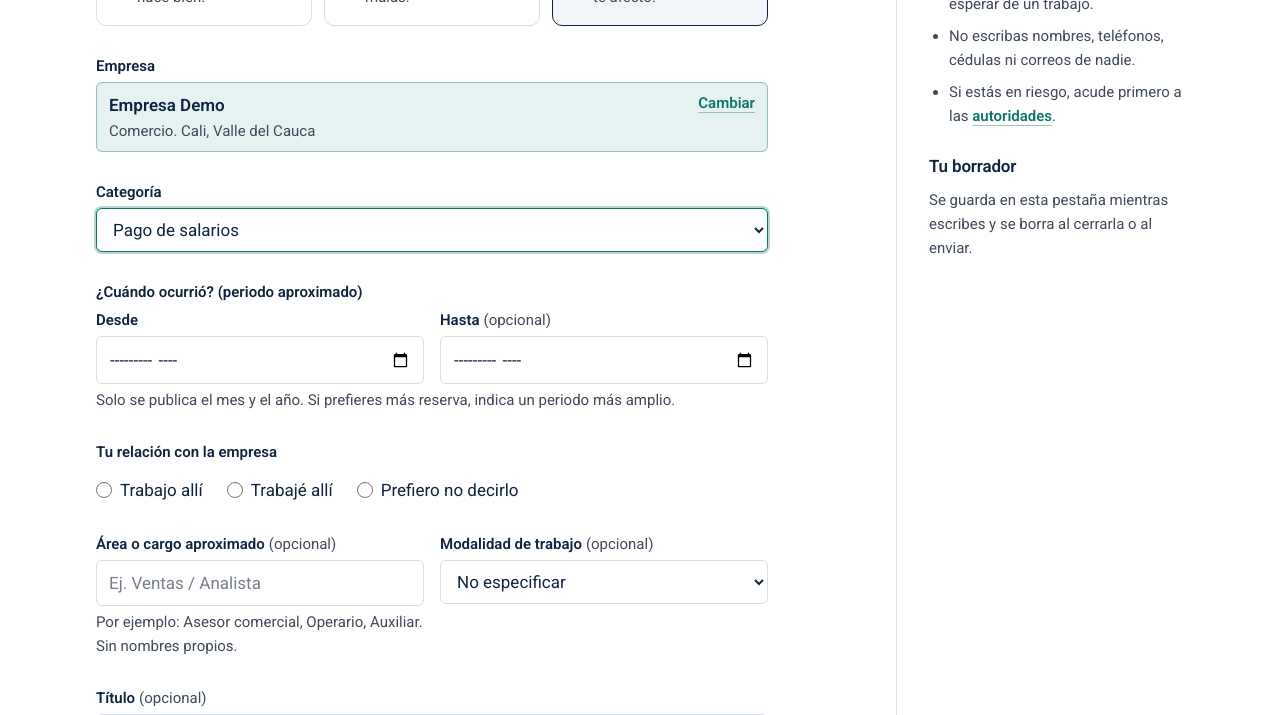
compartir una experiencia › avisa de datos personales, muestra la vista previa y envía a revisión
The width and height of the screenshot is (1280, 715).
Earlier steps of the test are not shown.
(page scrolled)
In the field labelled "Desde": (260, 360) [96, 336, 424, 384], type "2024-03"
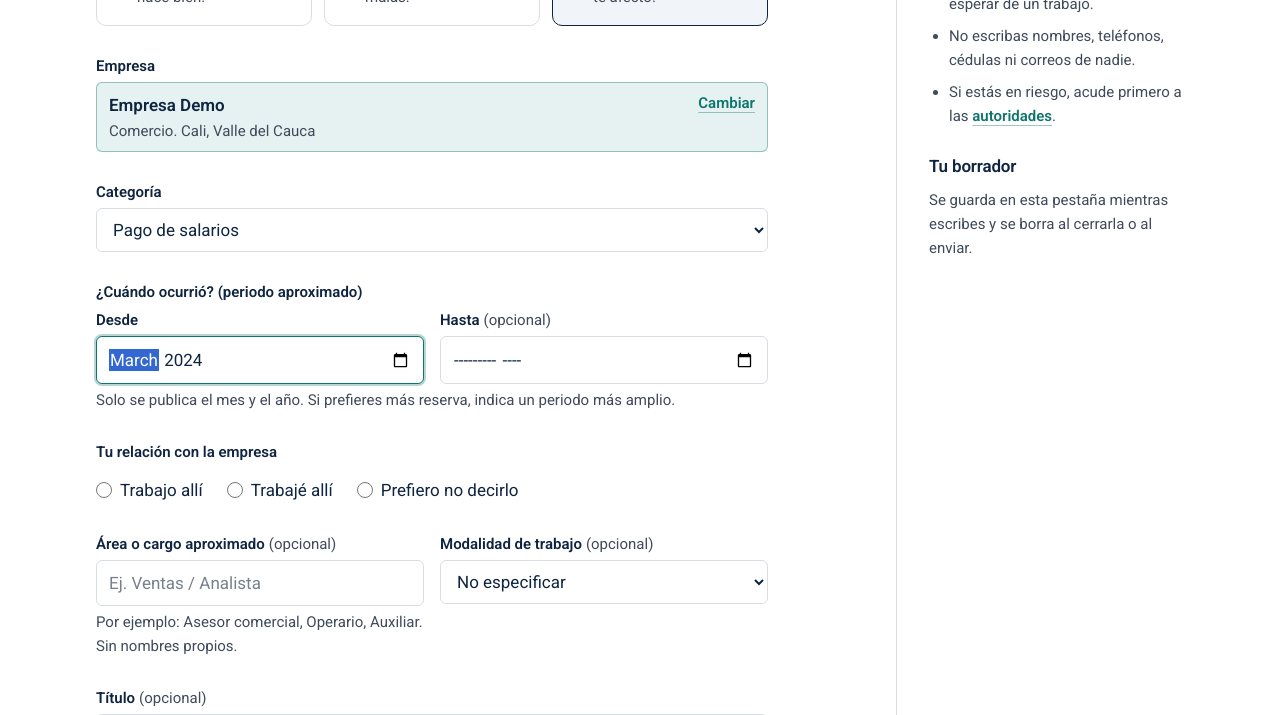
Click the radio button labelled "Trabajé allí": (235, 490) [227, 482, 243, 498]
(page scrolled)
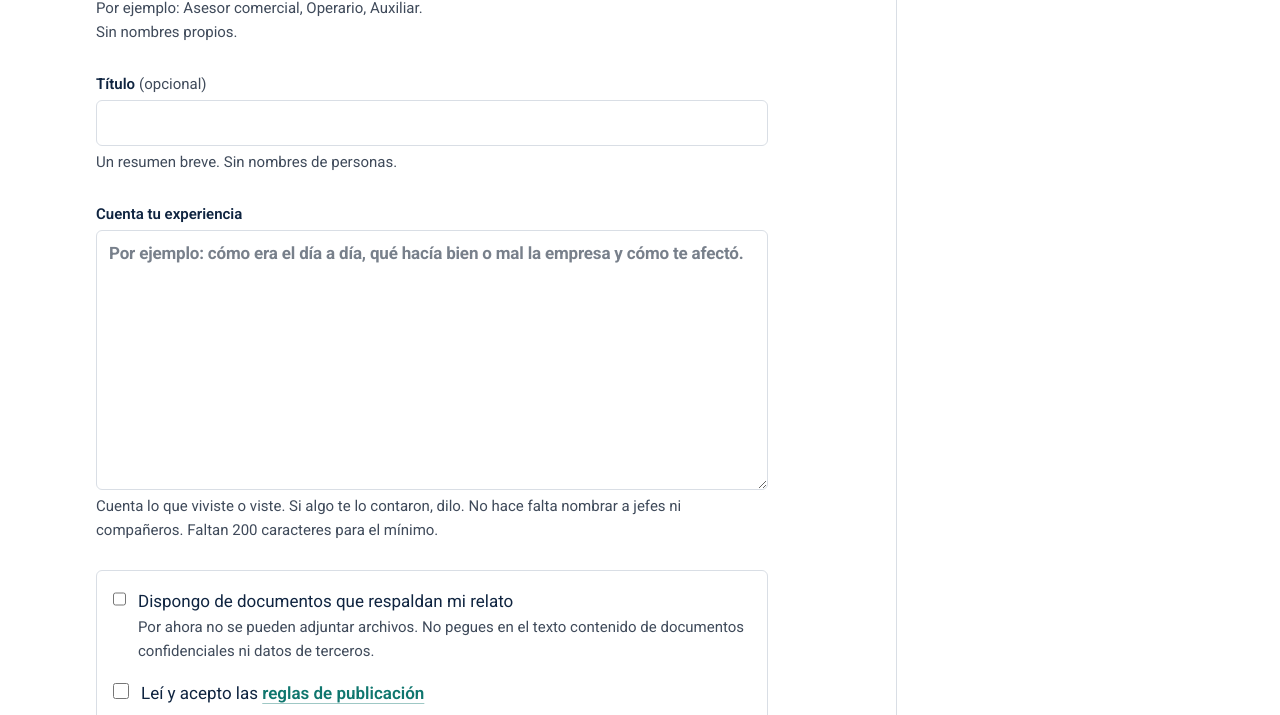
In the text box labelled "Cuenta tu experiencia": (432, 360) [96, 230, 768, 490], type "Durante cuatro meses la nómina llegó con retrasos de dos semanas. Lo viví directamente y lo comenté con talento humano sin respuesta escrita. Otros compañeros dijeron que les pasó lo mismo, aunque eso"
(page scrolled)
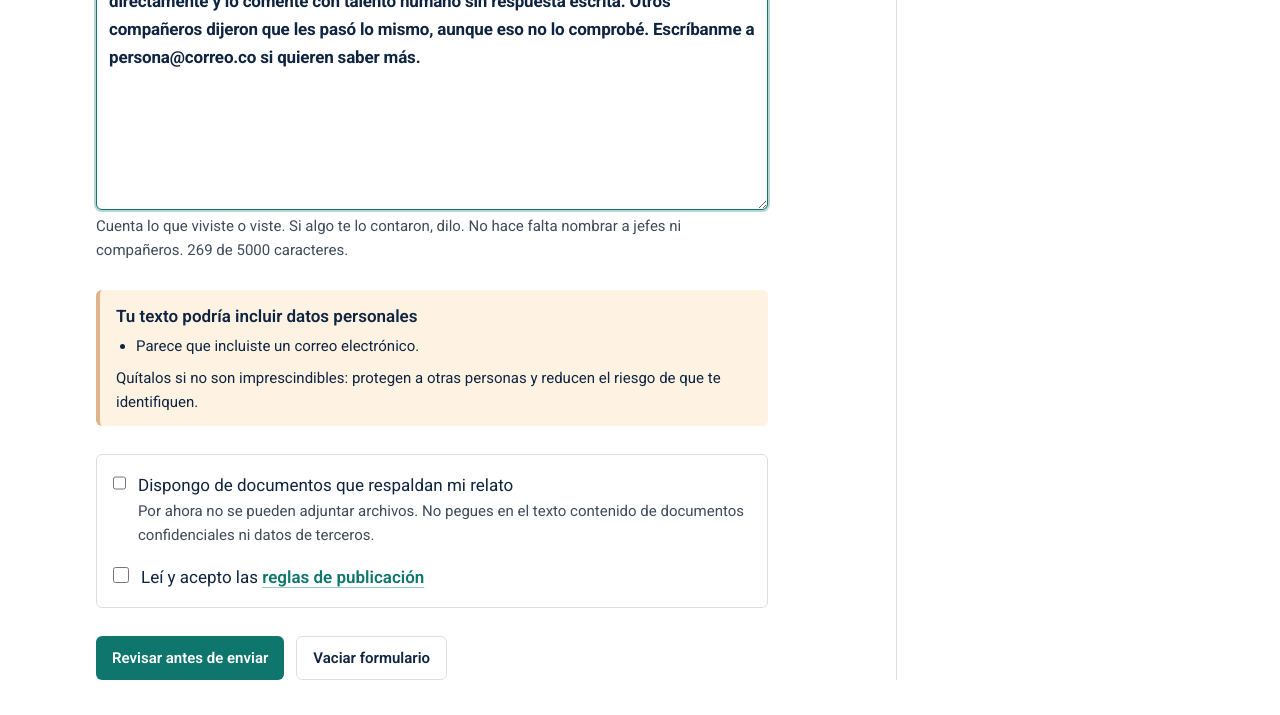
Check: the list item "Parece que incluiste un correo electrónico." is shown, box [136, 337, 419, 355]
Click the checkbox labelled "Leí y acepto las reglas de publicación": (121, 575) [113, 567, 129, 583]
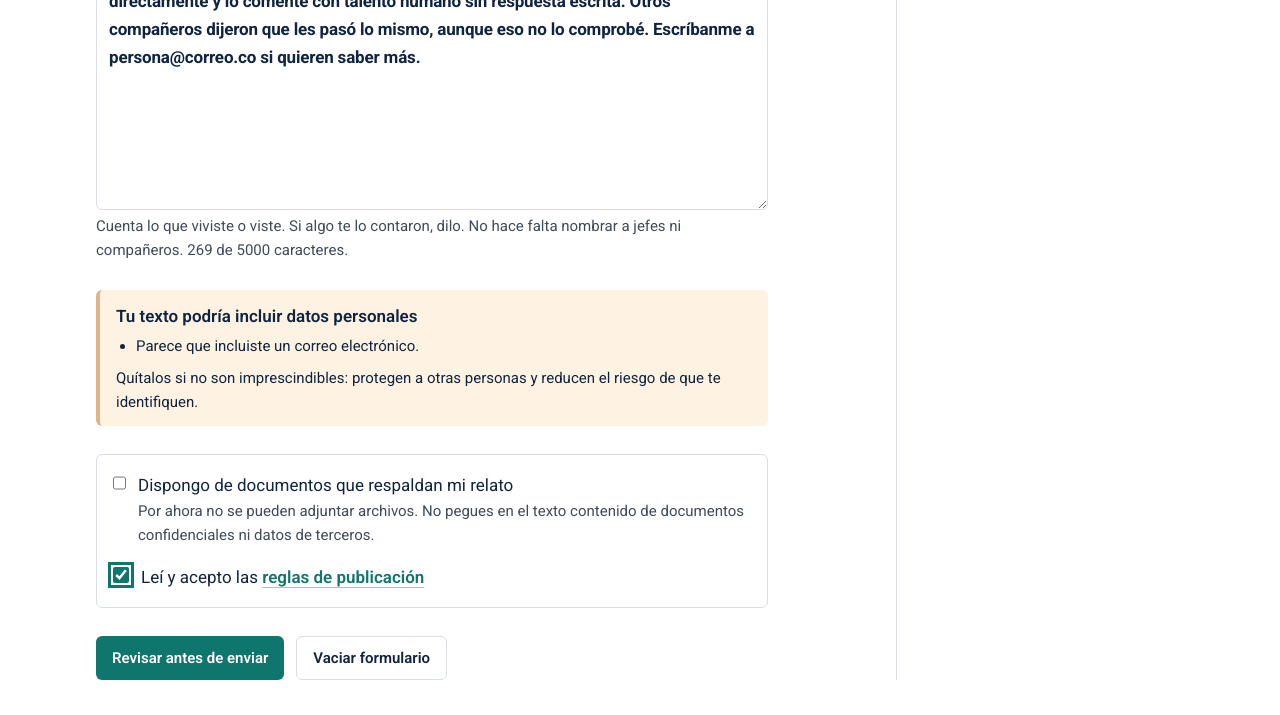
Click the button "Revisar antes de enviar": (190, 658) [96, 636, 284, 680]
(page scrolled)
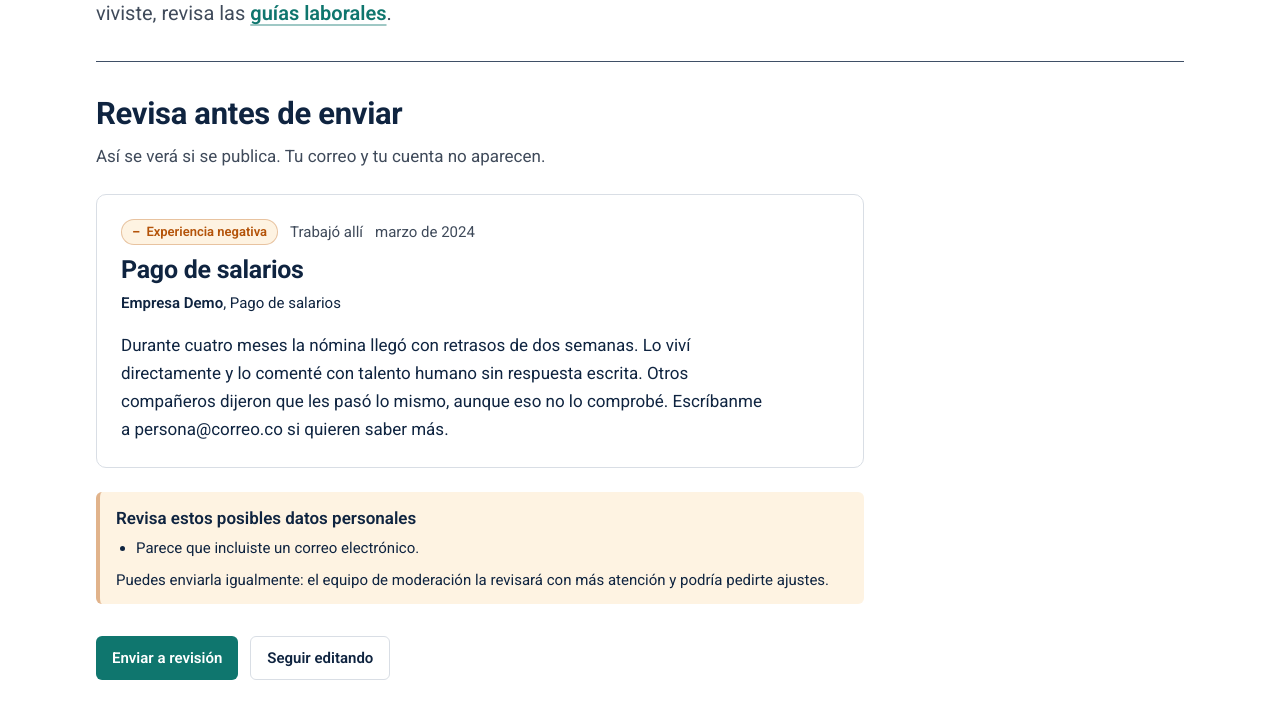
Check: the text "Empresa Demo" is shown, box [121, 294, 223, 312]
Click the button "Enviar a revisión": (167, 658) [96, 636, 238, 680]
(page scrolled)
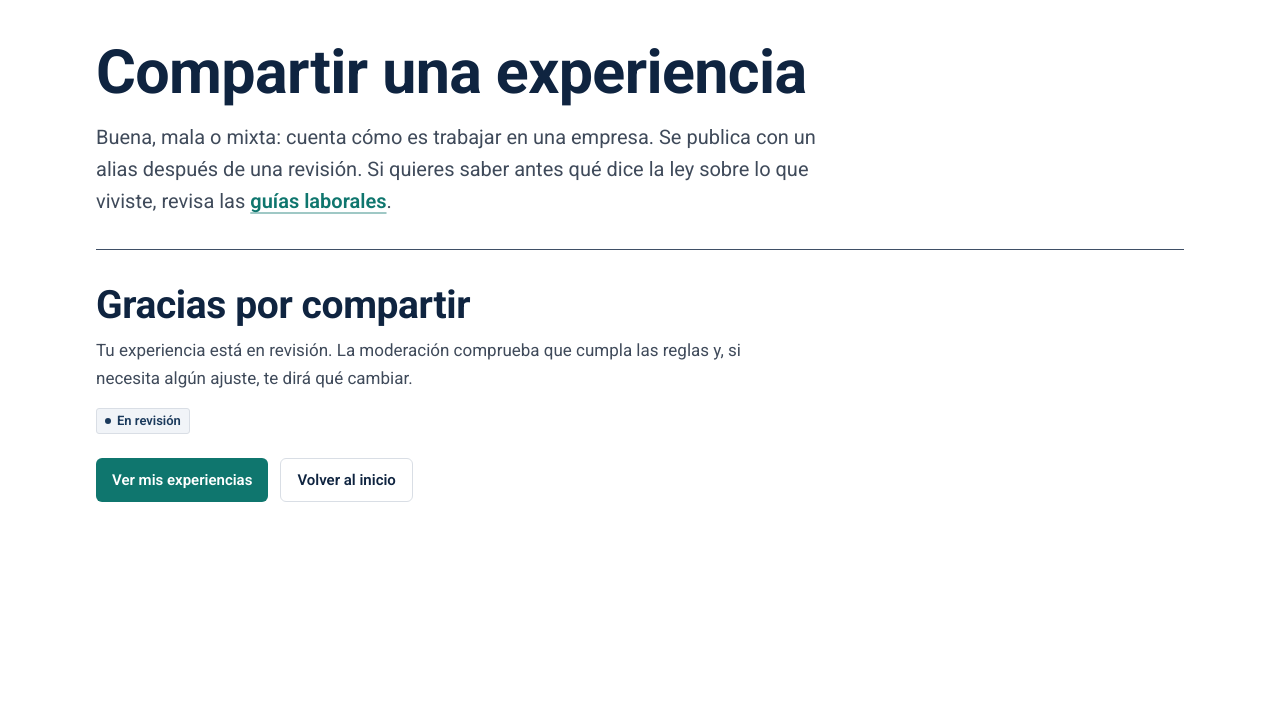
Check: the heading "Gracias por compartir" is shown, box [96, 282, 470, 328]
